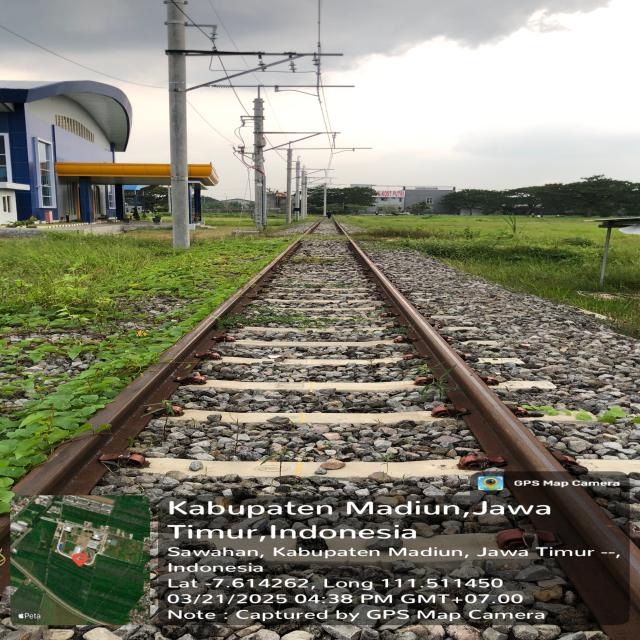rail-detection: (350, 240, 640, 640), (91, 241, 299, 437), (14, 436, 117, 494)
